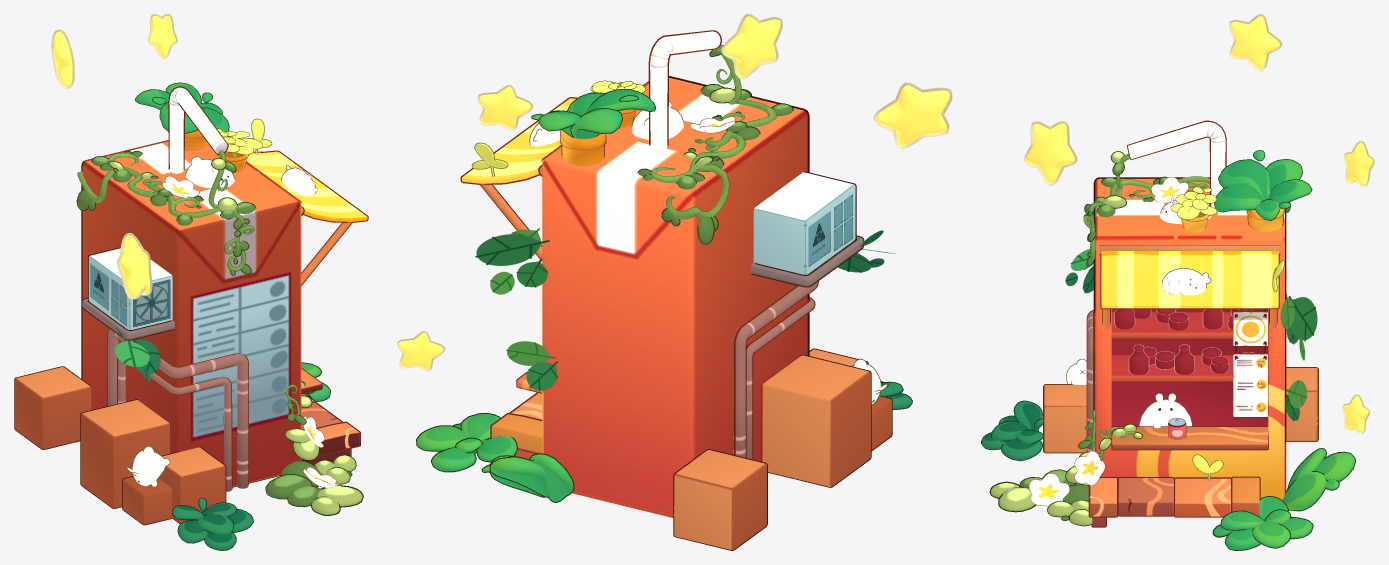
File: shop.glb
3 renders of one model, left to right at view 1: azimuth 30°, elevation 25°; view 2: azimuth 150°, elevation 25°; view 3: azimuth 270°, elevation 25°, orthographic. The views are drawn at different scales.
Visible parts, largest first — view 1: Juice_Box, Plant_3, Box.002, Pipeline, Air-conditioning, Box.003, Box.001, Veg_1, Plant_2, Box, Star, Board.001 (+11 smaller); view 2: Juice_Box, Box.002, Air-conditioning, Box.003, Plant_3, Plant_2, Pipeline, Veg_2, Star, Veg_3, Star.003, Star.001 (+8 smaller); view 3: Juice_Box, Plant_3, Plant_2, Veg_2, Box.001, Veg_3, Veg_1, Board.003, Star, Board.002, Star.003, Box.003 (+15 smaller).
Part boxes in pixels (x1,y1,x2,y2): Juice_Box: (81, 86, 368, 487); Plant_3: (76, 150, 363, 515); Box.002: (80, 399, 169, 508); Pipeline: (107, 328, 248, 491); Air-conditioning: (81, 247, 174, 340); Box.003: (14, 366, 91, 449); Box.001: (159, 446, 226, 523); Veg_1: (172, 497, 253, 550); Plant_2: (135, 82, 229, 150); Box: (122, 476, 172, 525); Star: (117, 233, 152, 299); Board.001: (301, 421, 360, 464); Juice_Box: (460, 30, 809, 517); Box.002: (761, 354, 871, 487); Air-conditioning: (750, 171, 864, 287); Box.003: (673, 449, 767, 550); Plant_3: (637, 45, 793, 244); Plant_2: (531, 89, 655, 165); Pipeline: (733, 281, 818, 459); Veg_2: (416, 413, 517, 472); Star: (873, 82, 952, 149); Veg_3: (481, 453, 574, 502); Star.003: (721, 14, 782, 79); Star.001: (477, 84, 533, 130); Juice_Box: (1093, 120, 1286, 500); Plant_3: (989, 151, 1290, 526); Plant_2: (1214, 150, 1312, 232); Veg_2: (1212, 496, 1313, 550); Box.001: (1043, 384, 1086, 453); Veg_3: (1282, 448, 1355, 511); Veg_1: (981, 400, 1043, 461); Board.003: (1174, 477, 1231, 517); Star: (1024, 121, 1077, 185); Board.002: (1118, 477, 1174, 516); Star.003: (1229, 14, 1282, 71); Box.003: (1286, 367, 1318, 441).
Bounding box in the file's own units: 3.26 × 4.15 × 3.52.
Materials: 4 (4 with a texture image).
